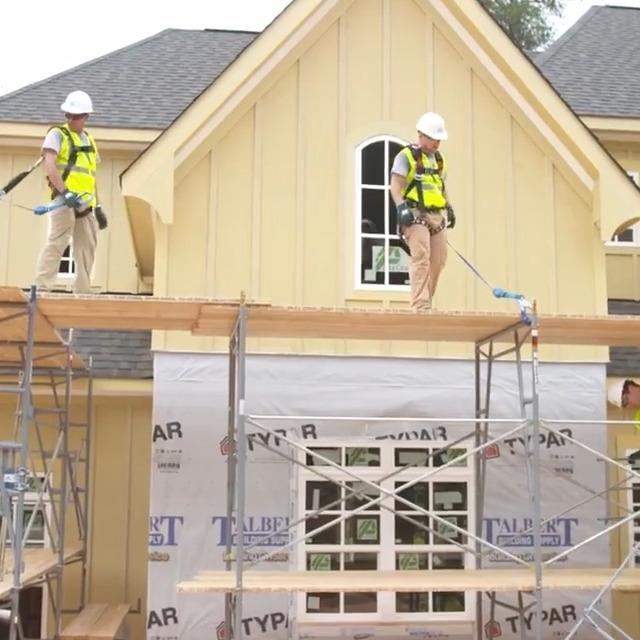Gloves: (396, 199, 414, 227), (62, 188, 81, 209), (95, 206, 108, 229), (446, 204, 457, 229), (628, 448, 640, 464)
Hardhat: (416, 112, 449, 140), (61, 91, 94, 115), (607, 378, 630, 410)
NO-Mask: (630, 391, 640, 410), (69, 120, 83, 132), (425, 142, 438, 152)
Person: (35, 91, 107, 295), (391, 111, 456, 310), (607, 377, 640, 578)
Safety Vest: (47, 124, 97, 207), (401, 145, 446, 207)
